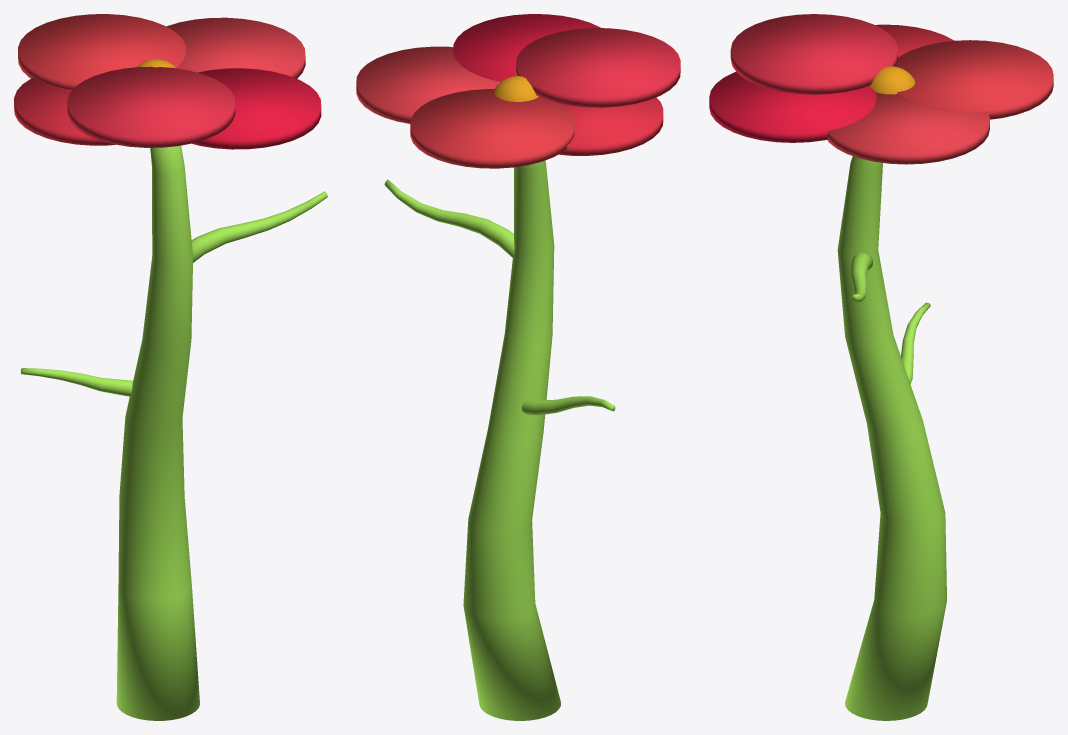
The model's file is fleur.gltf.
3 renders of one model, left to right at view 1: azimuth 30°, elevation 25°; view 2: azimuth 150°, elevation 25°; view 3: azimuth 270°, elevation 25°, orthographic. The views are drawn at different scales.
Visible parts, largest first — view 1: Cylinder, Cylinder.007, Cylinder.005, Cylinder.006, Cylinder.004, Cylinder.008, Cylinder.010, Cylinder.009; view 2: Cylinder, Cylinder.007, Cylinder.005, Cylinder.004, Cylinder.006, Cylinder.008, Cylinder.010, Cylinder.009, Sphere; view 3: Cylinder, Cylinder.007, Cylinder.005, Cylinder.004, Cylinder.006, Cylinder.008, Sphere, Cylinder.009, Cylinder.010.
Part boxes in pixels (<box>): Cylinder: <box>116,145,199,720</box>; Cylinder.007: <box>67,66,235,147</box>; Cylinder.005: <box>18,14,186,89</box>; Cylinder.006: <box>192,68,321,149</box>; Cylinder.004: <box>166,17,305,78</box>; Cylinder.008: <box>14,77,115,145</box>; Cylinder.010: <box>191,191,327,262</box>; Cylinder.009: <box>20,368,132,396</box>; Cylinder: <box>463,160,560,720</box>; Cylinder.007: <box>516,28,680,107</box>; Cylinder.005: <box>410,89,574,168</box>; Cylinder.004: <box>356,46,500,123</box>; Cylinder.006: <box>453,14,600,81</box>; Cylinder.008: <box>559,97,663,155</box>; Cylinder.010: <box>384,179,514,257</box>; Cylinder.009: <box>521,396,615,415</box>; Sphere: <box>494,76,538,101</box>; Cylinder: <box>837,156,946,720</box>; Cylinder.007: <box>730,14,897,94</box>; Cylinder.005: <box>896,40,1053,119</box>; Cylinder.004: <box>827,92,989,164</box>; Cylinder.006: <box>709,72,876,142</box>; Cylinder.008: <box>875,24,953,57</box>; Sphere: <box>868,66,915,94</box>; Cylinder.009: <box>901,302,930,383</box>; Cylinder.010: <box>851,252,872,302</box>.
Size of the model in its own units: 0.7118 by 1.52 by 0.7463.
